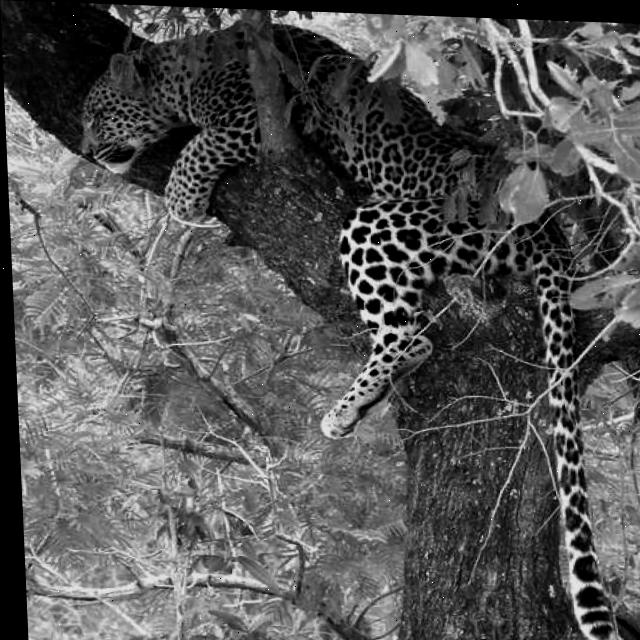Leopard: (71, 13, 620, 640)
